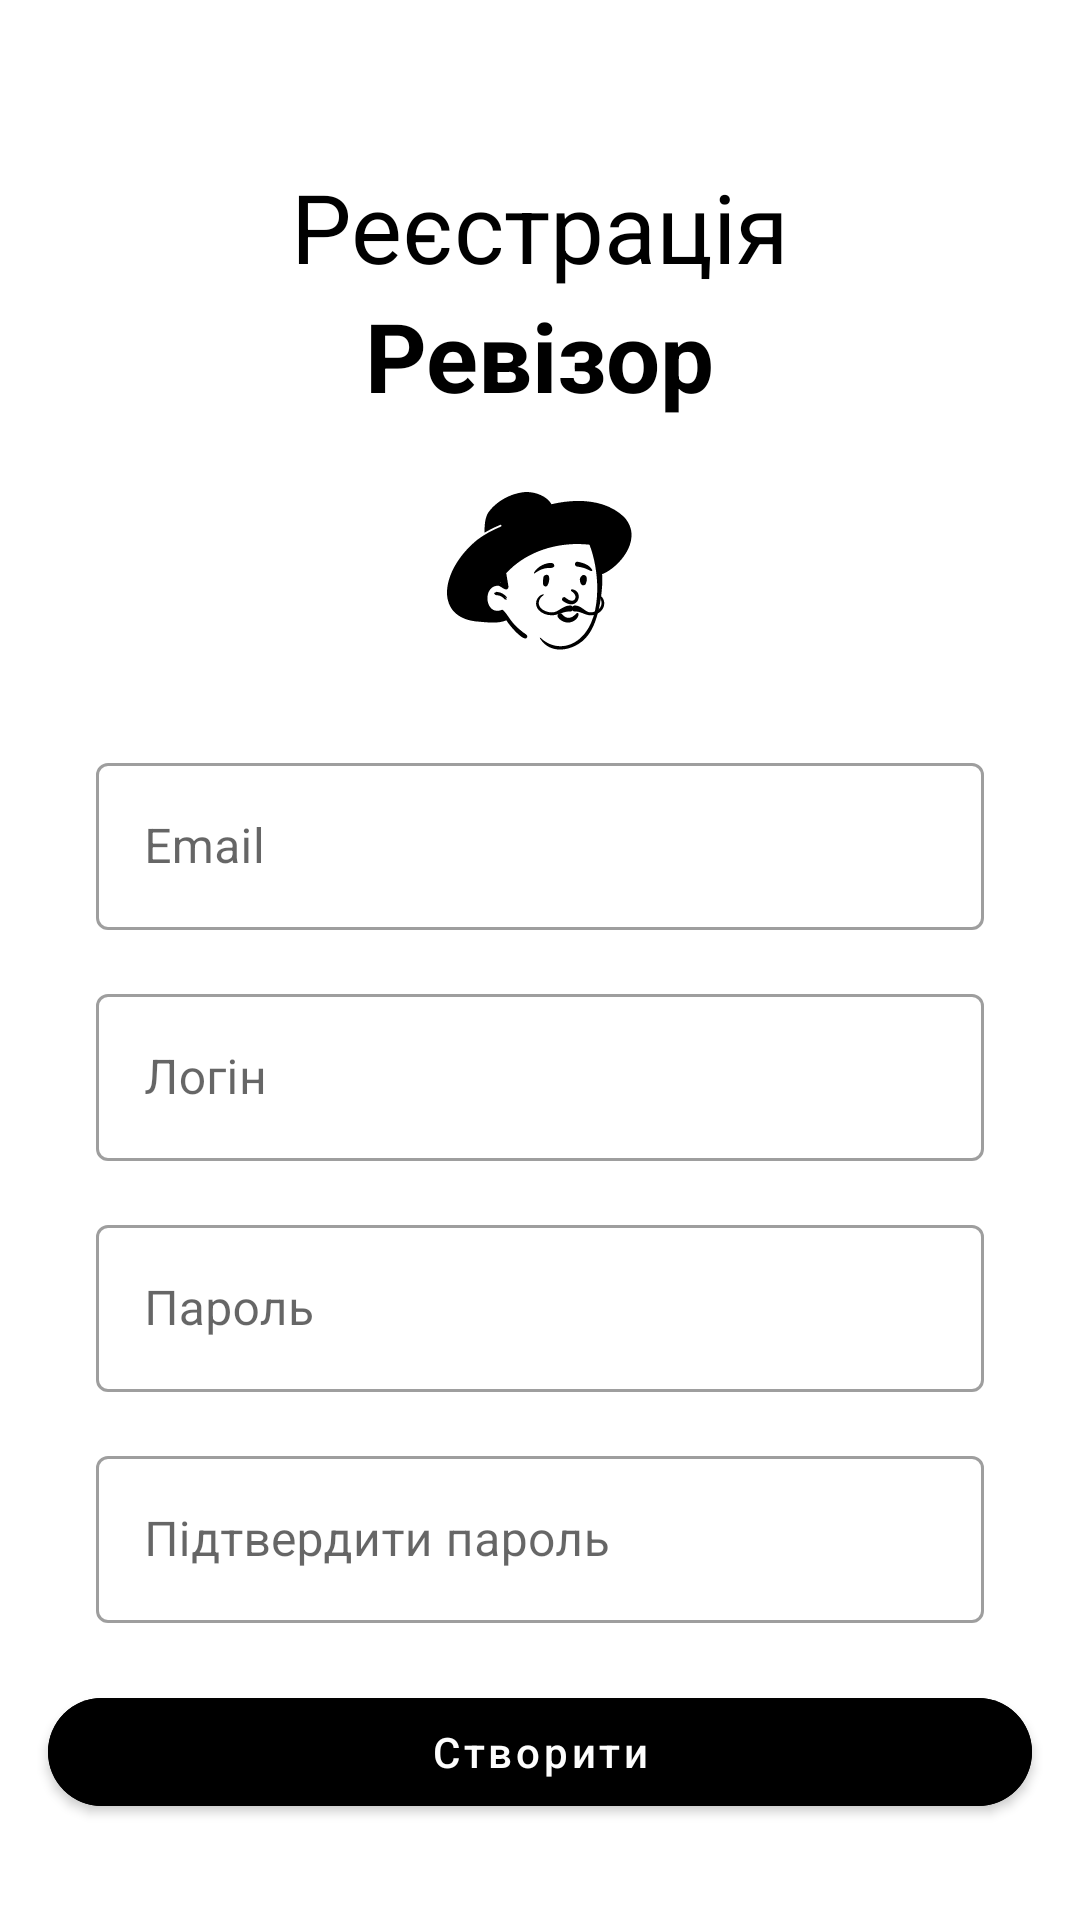

Icons on this 1080 × 1920 Android screen, each with the point to tap as point (x, y):
head: point (539, 571)
